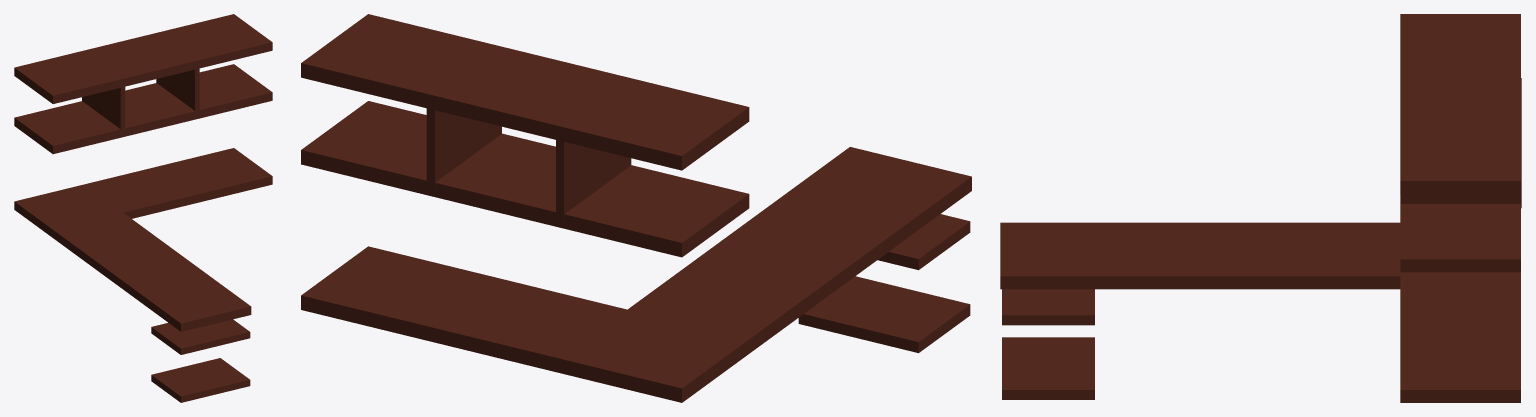
File: desk_planks.obj
3 views of the same model, side by side, from view 1: azimuth 30°, elevation 25°; view 2: azimuth 150°, elevation 25°; view 3: azimuth 270°, elevation 25° (orthographic). The views are drawn at different scales.
Parts seen in each view (by area): view 1: Cube.011_Mesh_14; view 2: Cube.011_Mesh_14; view 3: Cube.011_Mesh_14.
Boxes of the visible parts, <box> form: Cube.011_Mesh_14: <box>14,14,272,402</box>; Cube.011_Mesh_14: <box>301,14,971,402</box>; Cube.011_Mesh_14: <box>1000,14,1521,402</box>.
Bounding box in the file's own units: 0.6804 × 0.6322 × 0.8964.
